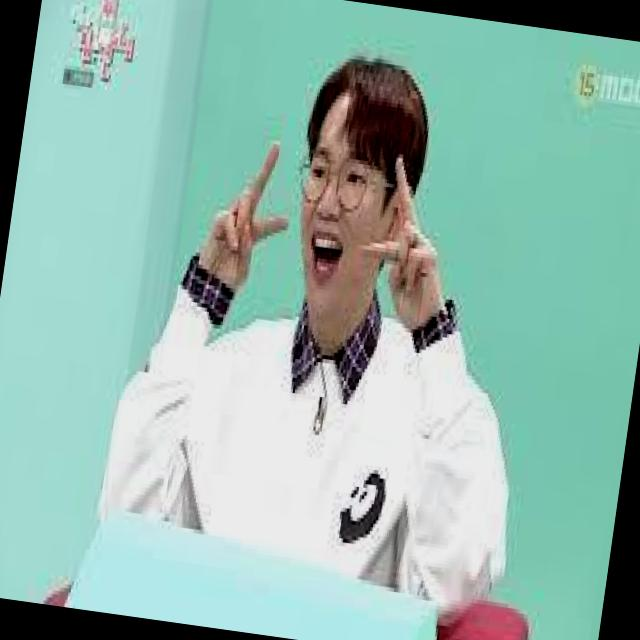sweater: (88, 234, 546, 613)
